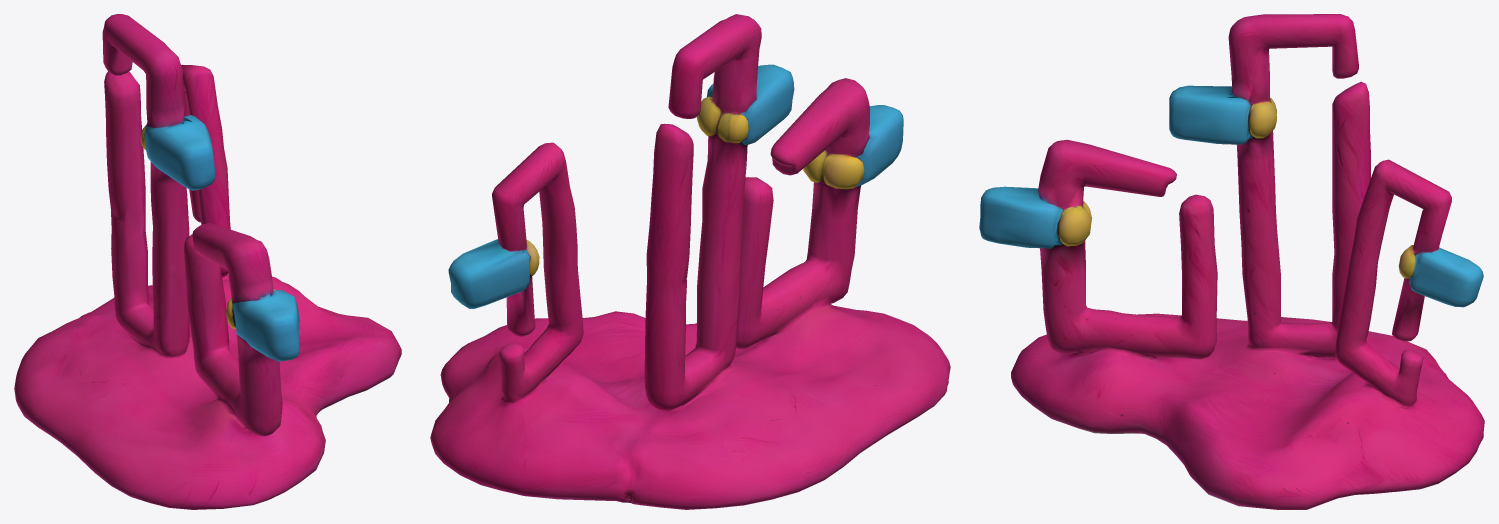
The model's file is 1ea1bad1-dde5-4668-802c-7ea0eddc69d4.glb.
The picture shows the model from 3 angles, left to right: view 1: azimuth 30°, elevation 25°; view 2: azimuth 150°, elevation 25°; view 3: azimuth 270°, elevation 25°; orthographic projection. The views are drawn at different scales.
Parts seen in each view (by area): view 1: tripo_node_85a66ca1-e664-48e7-ab87-1d70706f8a3c; view 2: tripo_node_85a66ca1-e664-48e7-ab87-1d70706f8a3c; view 3: tripo_node_85a66ca1-e664-48e7-ab87-1d70706f8a3c.
Boxes of the visible parts, x1,y1,x2,y2 form: tripo_node_85a66ca1-e664-48e7-ab87-1d70706f8a3c: [14, 14, 401, 509]; tripo_node_85a66ca1-e664-48e7-ab87-1d70706f8a3c: [430, 14, 950, 509]; tripo_node_85a66ca1-e664-48e7-ab87-1d70706f8a3c: [979, 14, 1484, 509].
Size of the model in its own units: 0.8317 by 0.8317 by 1.
Materials: 1 (1 with a texture image).
